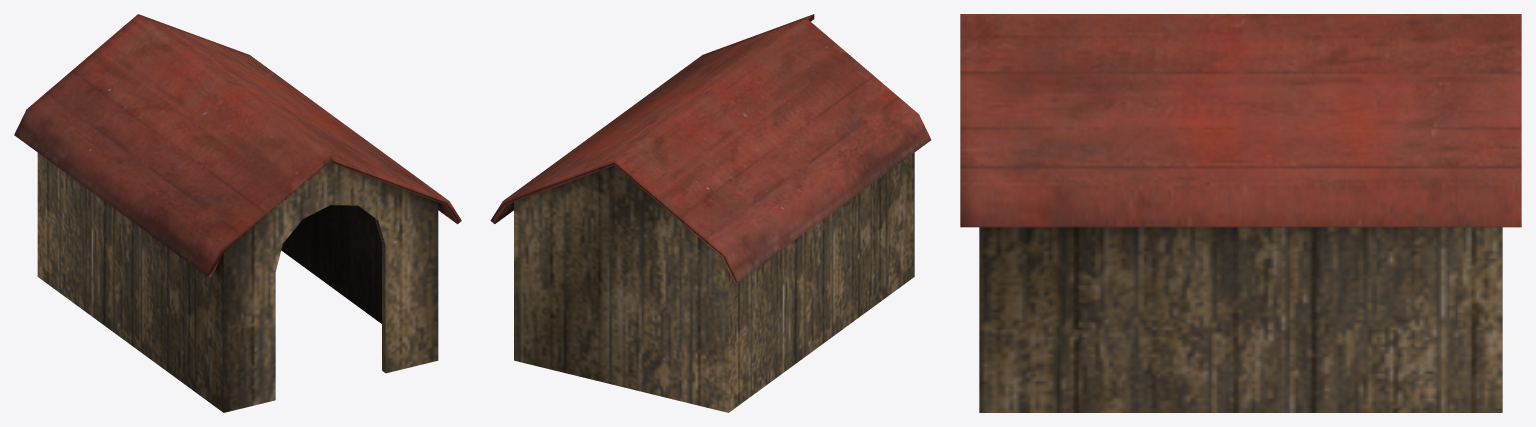
File: hundehuette_01.fbx
3 renders of one model, left to right at view 1: azimuth 30°, elevation 25°; view 2: azimuth 150°, elevation 25°; view 3: azimuth 270°, elevation 25°, orthographic. The views are drawn at different scales.
Parts seen in each view (by area): view 1: hundehuette; view 2: hundehuette; view 3: hundehuette.
Part boxes in pixels (left/top/right/bottom): hundehuette: left=14, top=14, right=461, bottom=412; hundehuette: left=490, top=14, right=931, bottom=412; hundehuette: left=960, top=14, right=1521, bottom=412.
Bounding box in the file's own units: 161 × 144 × 224.
